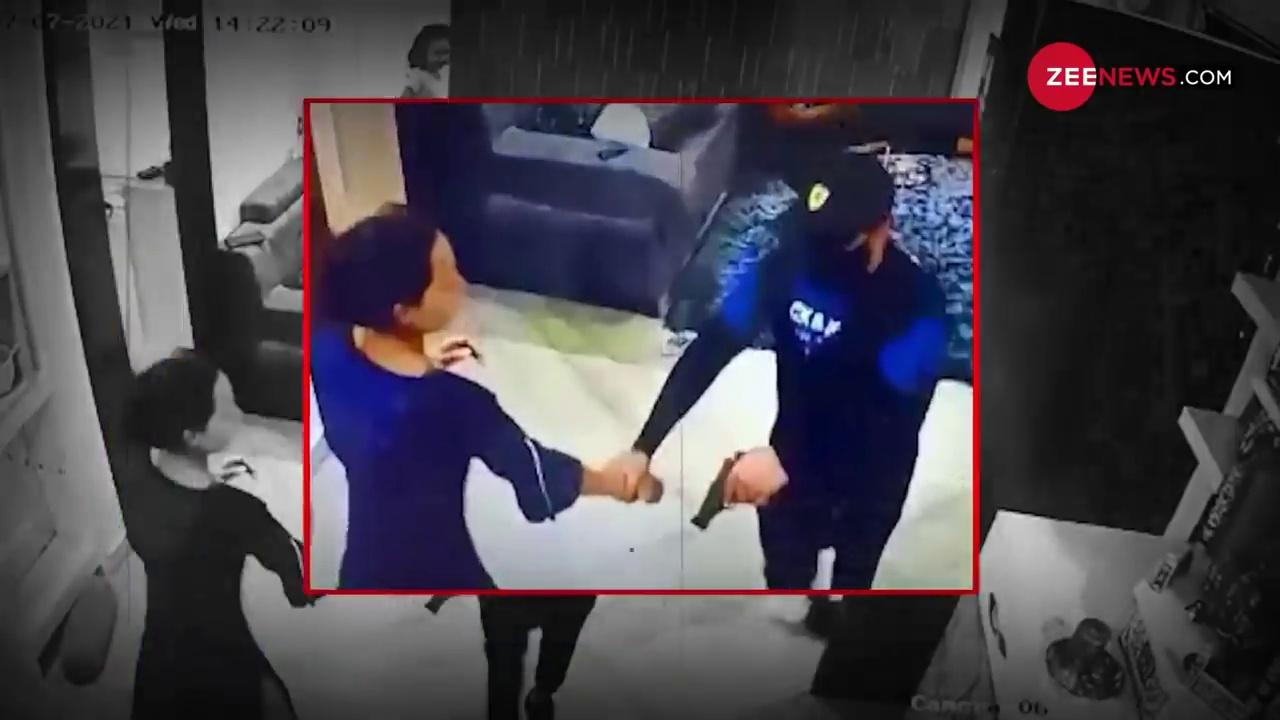weapon: (688, 449, 772, 532)
